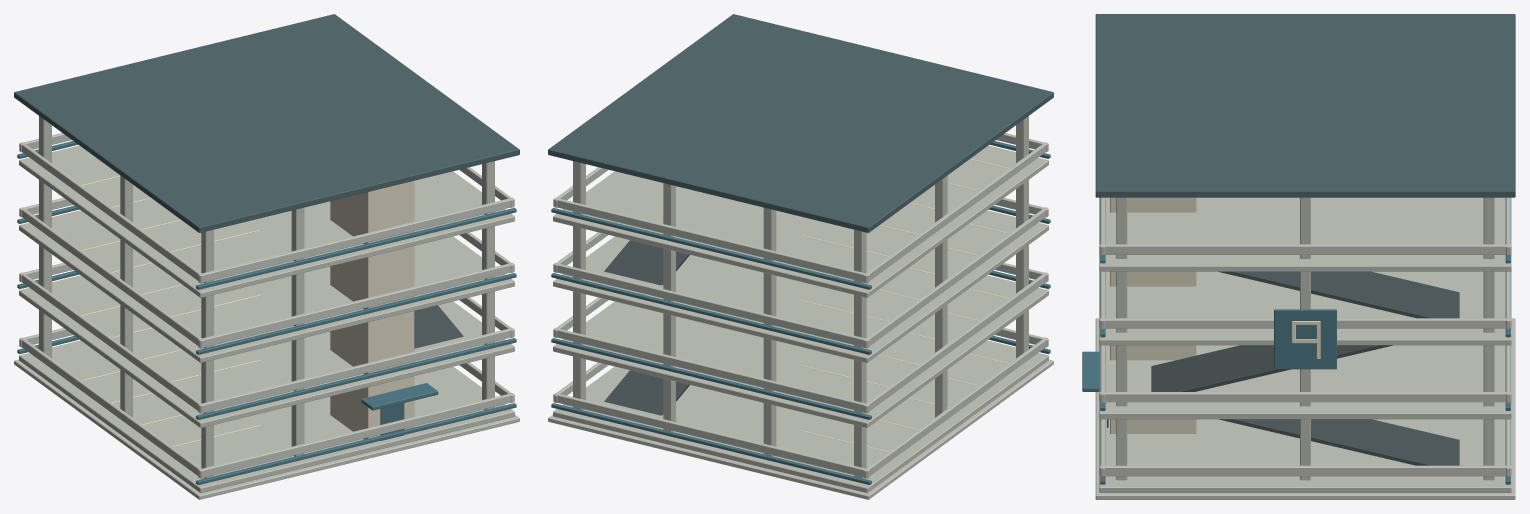
File: facility.glb
3 views of the same model, side by side, from view 1: azimuth 30°, elevation 25°; view 2: azimuth 150°, elevation 25°; view 3: azimuth 270°, elevation 25° (orthographic). The views are drawn at different scales.
Visible parts, largest first — view 1: FacilityCombinedMesh; view 2: FacilityCombinedMesh; view 3: FacilityCombinedMesh.
Part boxes in pixels (box(x1,y1,x2,y2)): FacilityCombinedMesh: box(14, 14, 519, 499); FacilityCombinedMesh: box(548, 14, 1053, 499); FacilityCombinedMesh: box(1082, 14, 1515, 499).
Size of the model in its own units: 16 by 12.99 by 16.5.
